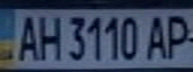0: (118, 12, 142, 61)
1: (84, 12, 103, 61), (103, 12, 121, 61)
3: (63, 12, 84, 61)
A: (12, 11, 42, 62), (145, 11, 172, 61)
H: (33, 11, 63, 62)
P: (163, 11, 193, 60)
